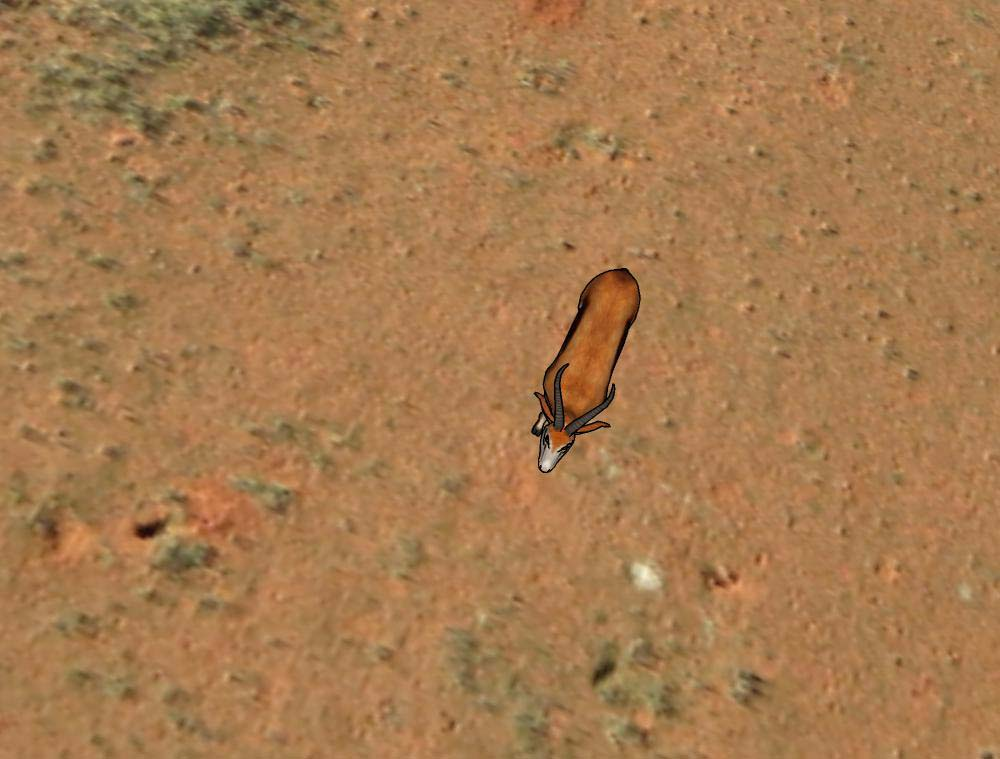springbok: (525, 264, 643, 472)
